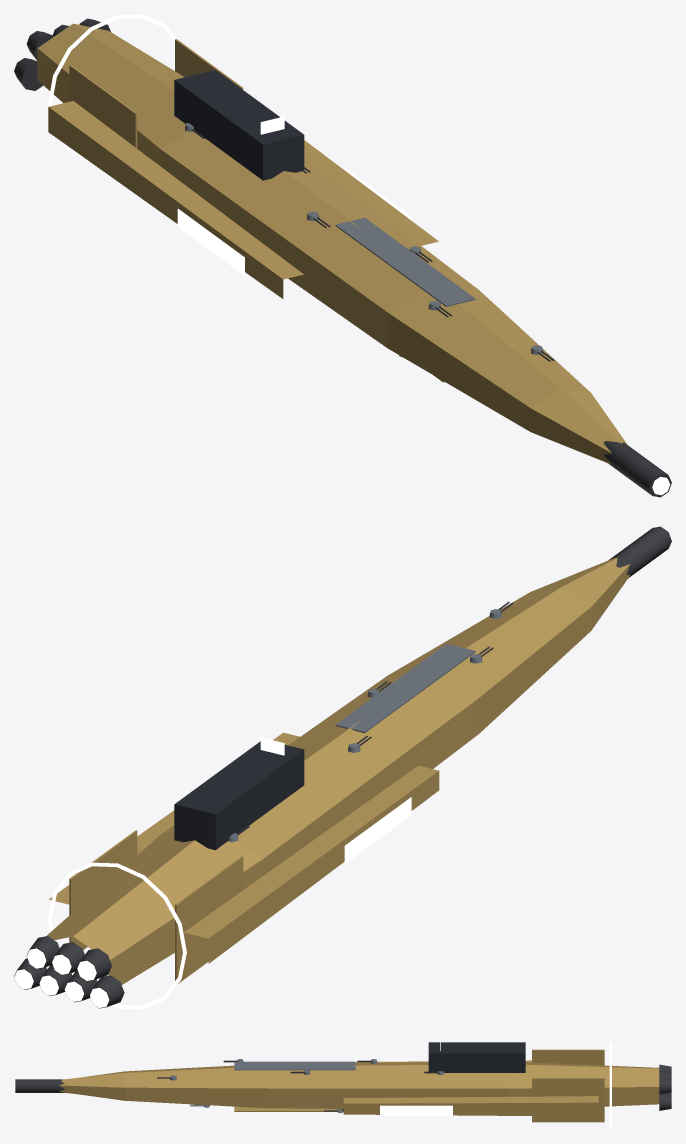
File: space_ship_battleship_mk7.glb
The picture shows the model from 3 angles, top to bottom: view 1: azimuth 30°, elevation 25°; view 2: azimuth 150°, elevation 25°; view 3: azimuth 270°, elevation 25°; orthographic projection. The views are drawn at different scales.
Visible parts, largest first — view 1: body, main_gun, hangar_r; view 2: body, main_gun, hangar_r, engine_0, engine_1, engine_5, engine_3; view 3: body, hangar_l, main_gun, engine_5, engine_6.
Boxes of the visible parts, x1,y1,x2,y2 form: body: (37, 14, 627, 464); main_gun: (603, 441, 671, 497); hangar_r: (177, 208, 244, 275); body: (46, 557, 630, 1009); main_gun: (608, 526, 671, 578); hangar_r: (344, 797, 411, 863); engine_0: (89, 975, 124, 1008); engine_1: (77, 948, 111, 981); engine_5: (26, 936, 59, 968); engine_3: (52, 942, 84, 975); body: (59, 1038, 659, 1129); hangar_l: (380, 1105, 452, 1115); main_gun: (14, 1079, 66, 1092); engine_5: (659, 1078, 671, 1094); engine_6: (659, 1094, 671, 1110).
Size of what is drawn, in the model's own units: 28.5 by 25.12 by 177.
